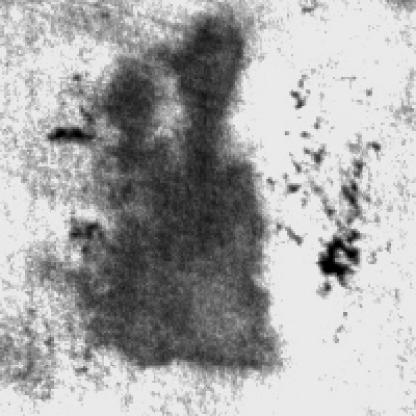inclusion: (314, 152, 372, 298)
patches: (89, 13, 281, 372), (94, 50, 176, 210)
